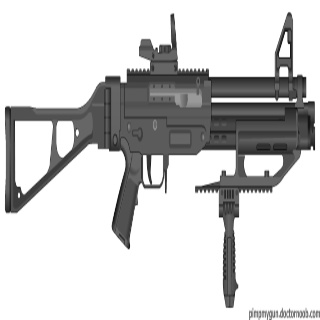rifle: (3, 13, 317, 308)
